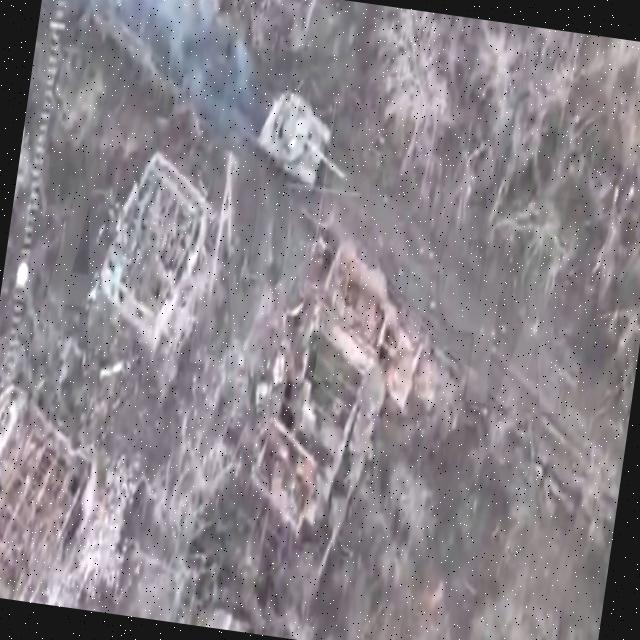MBT: (252, 87, 356, 193)
